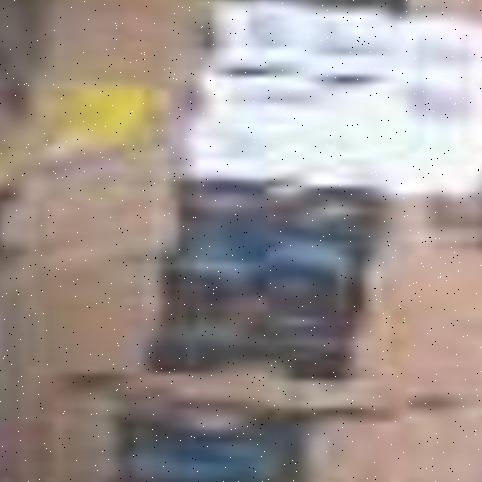Amazon: (45, 0, 482, 467)
